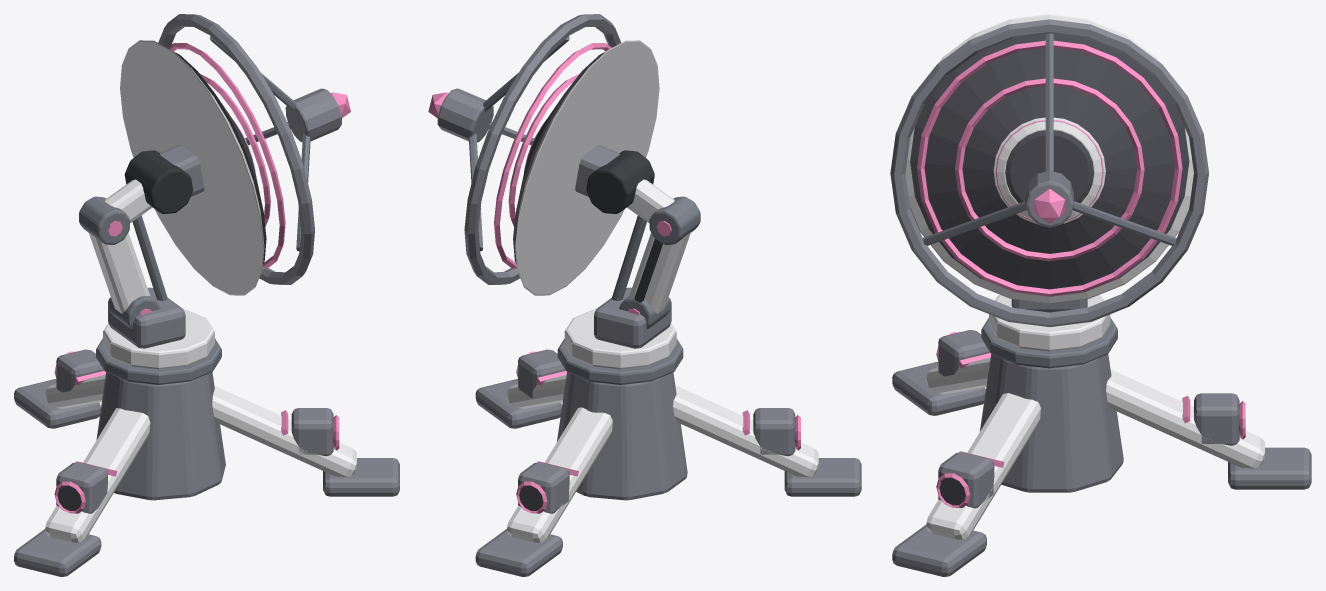
Rendered from torreta_sonica.glb.
3 views of the same model, side by side, from view 1: azimuth 30°, elevation 25°; view 2: azimuth 150°, elevation 25°; view 3: azimuth 270°, elevation 25° (orthographic). The views are drawn at different scales.
Parts seen in each view (by area): view 1: Base, Barrel, Pivot; view 2: Base, Barrel, Pivot; view 3: Barrel, Base, Pivot.
Part boxes in pixels (x1=…): Base: x1=14, y1=338, x2=399, y2=576; Barrel: x1=120, y1=14, x2=350, y2=295; Pivot: x1=79, y1=179, x2=214, y2=369; Base: x1=475, y1=338, x2=861, y2=576; Barrel: x1=428, y1=14, x2=659, y2=295; Pivot: x1=564, y1=179, x2=700, y2=369; Barrel: x1=890, y1=14, x2=1208, y2=327; Base: x1=892, y1=317, x2=1311, y2=576; Pivot: x1=989, y1=295, x2=1110, y2=351.
Size of the model in its own units: 3.17 by 3.55 by 2.77.
Materials: 1 (1 with a texture image).
